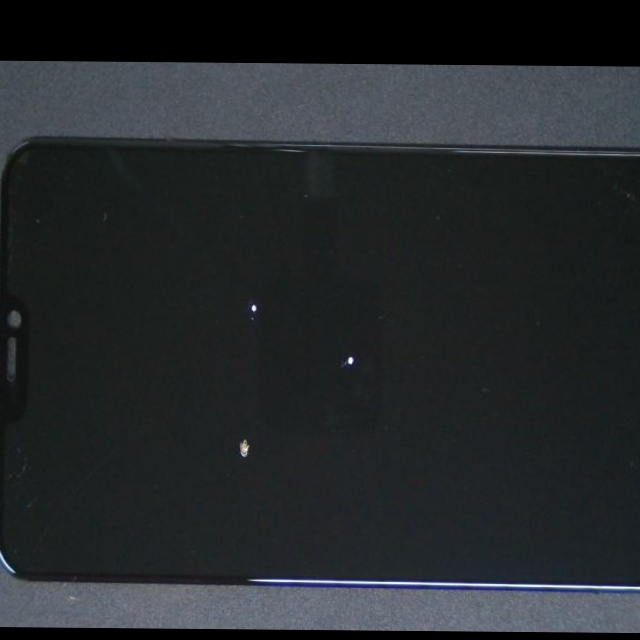stain: (172, 168, 530, 470), (129, 243, 395, 611), (126, 181, 397, 404)
